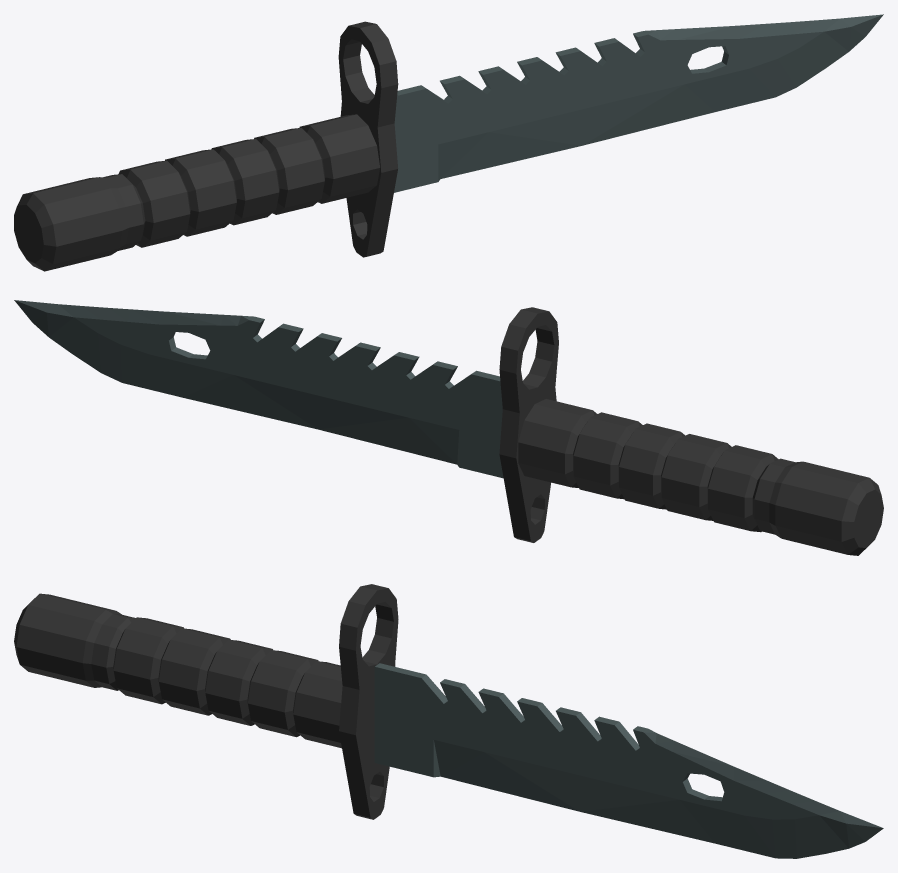
Rendered from M9 Bayonet.fbx.
3 views of the same model, one above another, from view 1: azimuth 30°, elevation 25°; view 2: azimuth 150°, elevation 25°; view 3: azimuth 330°, elevation 25° (orthographic).
Visible parts, largest first — view 1: Cylinder001; view 2: Cylinder001; view 3: Cylinder001.
Part boxes in pixels (box(x1,y1,x2,y2)): Cylinder001: box(14, 14, 883, 271); Cylinder001: box(14, 300, 883, 555); Cylinder001: box(14, 584, 883, 858).
Size of the model in its own units: 229 by 58.09 by 19.82.
2 materials, 2 textured.
